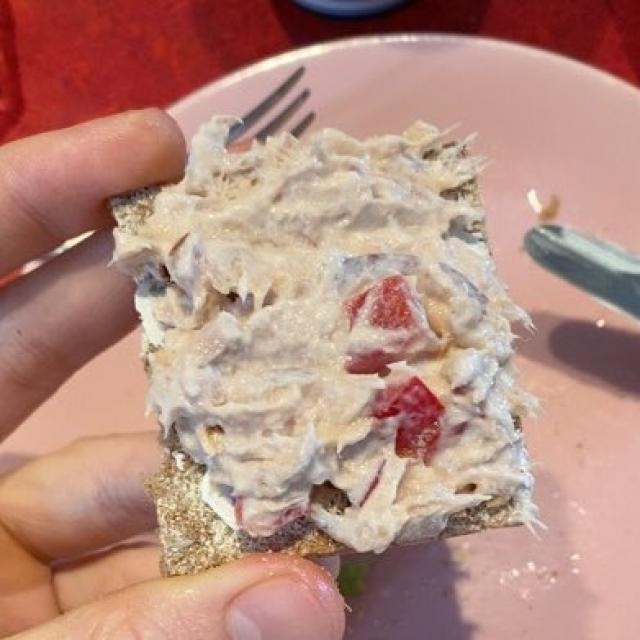bell-pepper: (354, 265, 448, 450)
bread: (160, 459, 338, 560)
tuna: (122, 132, 530, 536)
